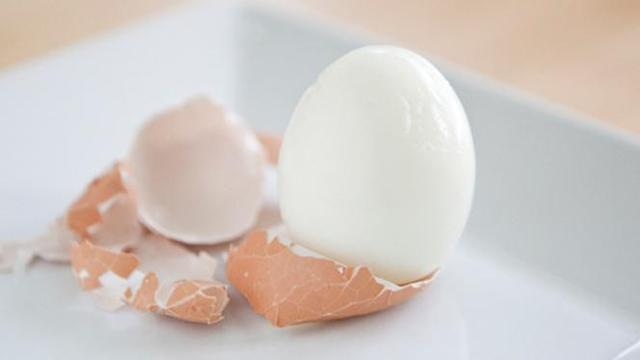Telur: (269, 59, 469, 273)
